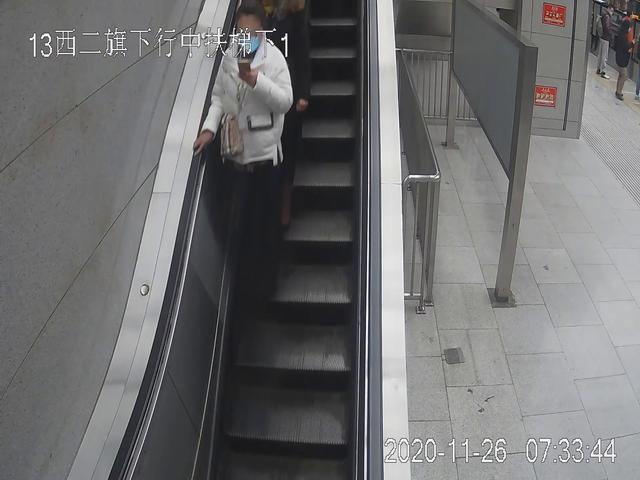person: (193, 3, 293, 304), (595, 5, 614, 78), (614, 19, 630, 102)
